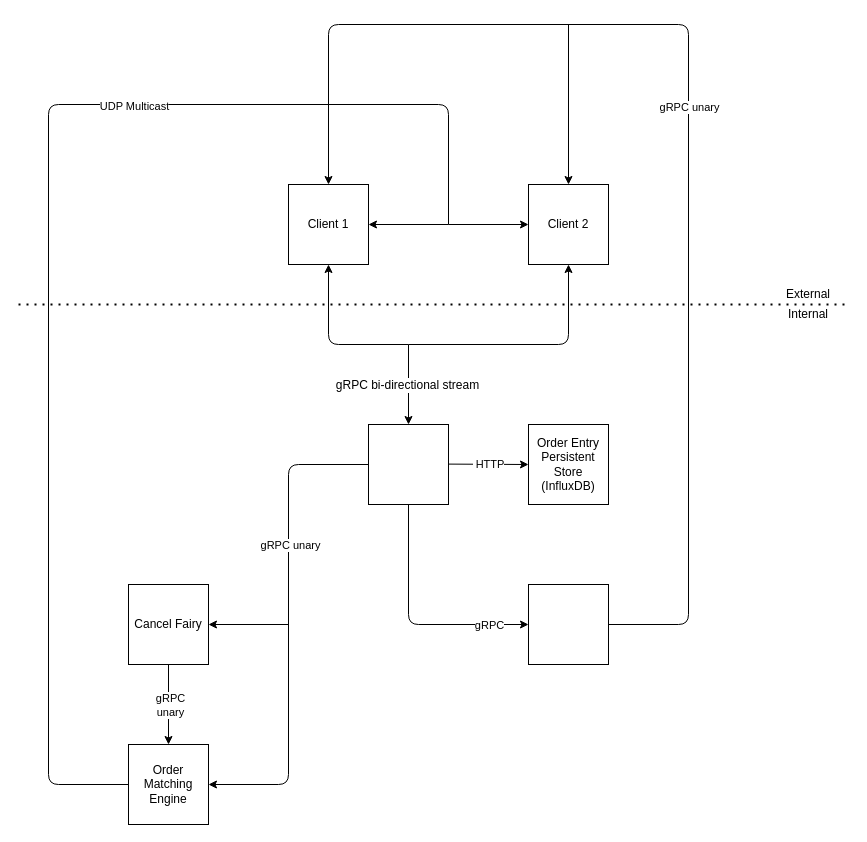
This 867x842 diagram has some shape labels left out. Each missing label, with the centre of its shape:
Order Entry: point 408,464
Security/ Instrument Store (DynamoDB): point 568,624
